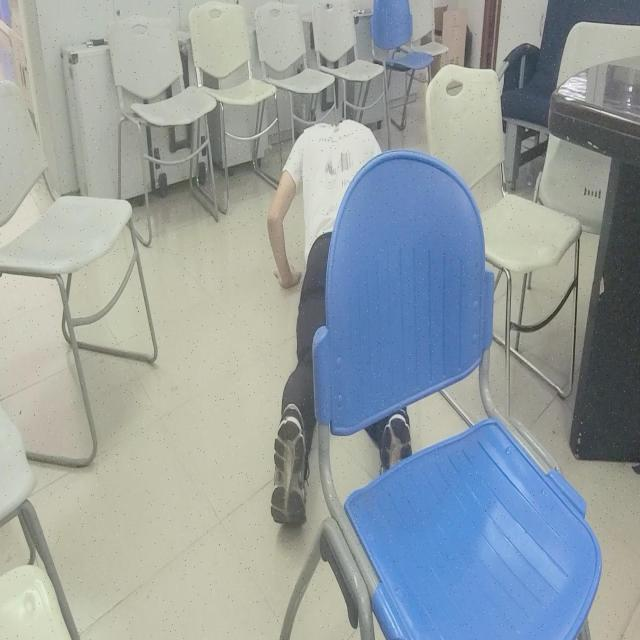fall: (266, 120, 414, 532)
